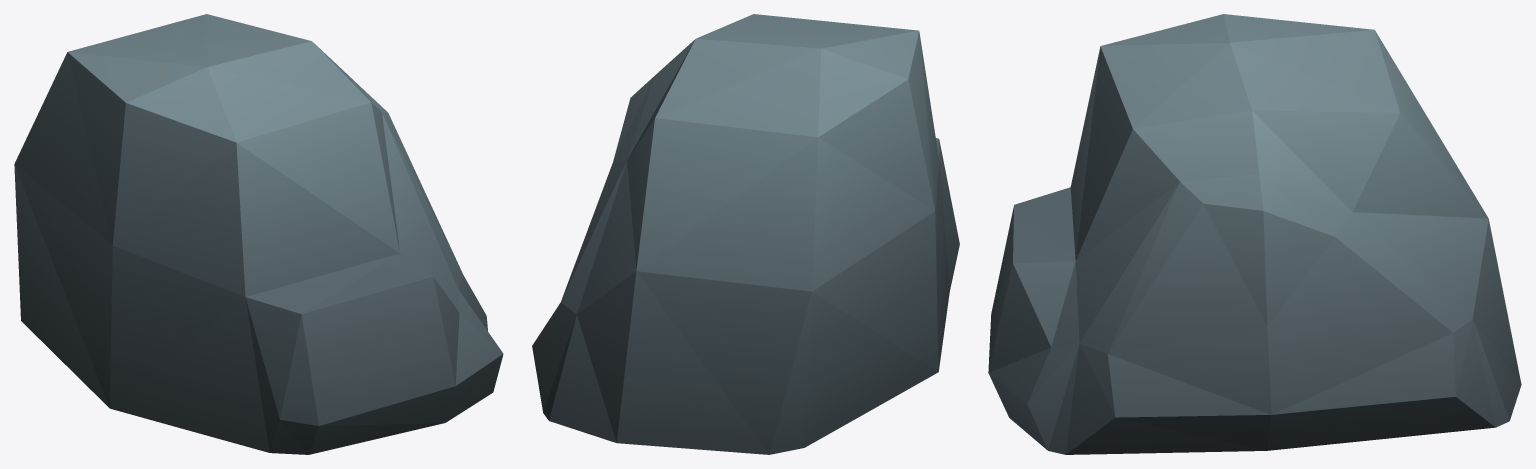
Rendered from stone small gray blue 5.fbx.
3 views of the same model, side by side, from view 1: azimuth 30°, elevation 25°; view 2: azimuth 150°, elevation 25°; view 3: azimuth 270°, elevation 25° (orthographic). The views are drawn at different scales.
Visible parts, largest first — view 1: stone small gray blue 5; view 2: stone small gray blue 5; view 3: stone small gray blue 5.
Part boxes in pixels (x1,y1,x2,y2): stone small gray blue 5: (14, 14, 503, 454); stone small gray blue 5: (532, 14, 959, 454); stone small gray blue 5: (988, 14, 1521, 454).
Bounding box in the file's own units: 66.32 × 58.93 × 91.48.
